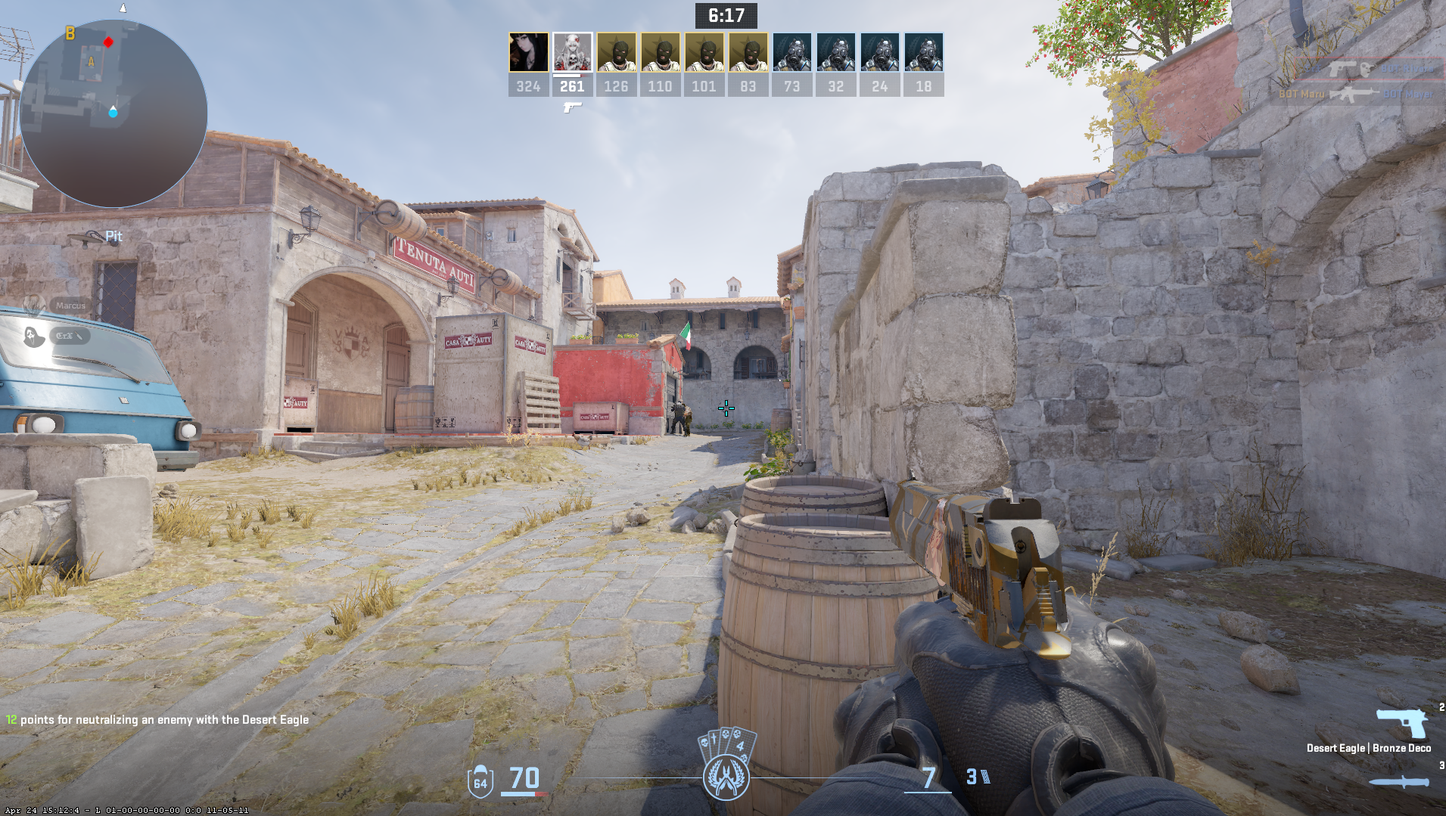CT: (672, 401, 685, 435)
T: (685, 401, 693, 435)
